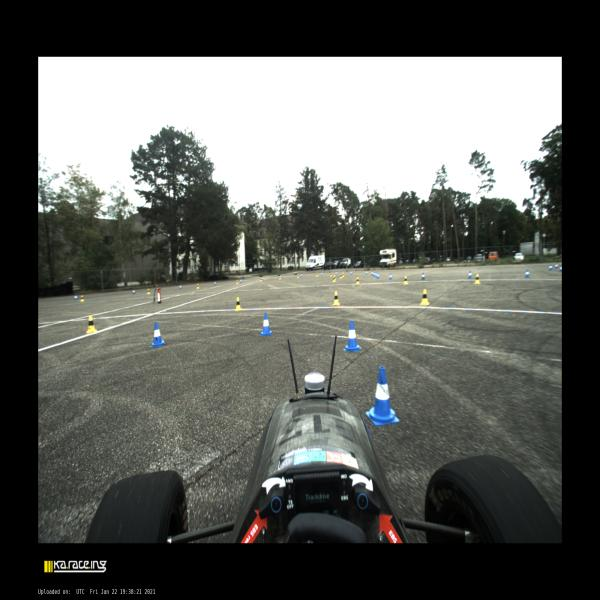blue_cone: (365, 367, 400, 426), (343, 321, 362, 352), (150, 322, 166, 347), (261, 313, 272, 335), (525, 270, 530, 278), (421, 273, 426, 280), (468, 270, 472, 278), (548, 264, 553, 270), (389, 273, 393, 280), (74, 294, 78, 300), (555, 262, 559, 268), (559, 265, 562, 272), (179, 284, 182, 290), (373, 272, 376, 276), (375, 272, 377, 278), (377, 273, 379, 279), (133, 289, 135, 294), (372, 271, 374, 276), (214, 281, 216, 285), (240, 279, 242, 283), (321, 272, 323, 276), (350, 271, 352, 275), (366, 271, 368, 275), (262, 277, 264, 280), (335, 272, 337, 275), (301, 274, 302, 277)
yellow_cone: (86, 316, 97, 333), (420, 289, 430, 305), (333, 291, 340, 306), (235, 297, 242, 311), (474, 274, 481, 284), (355, 277, 360, 284), (80, 294, 85, 301), (404, 276, 408, 284), (147, 288, 151, 294), (196, 284, 200, 290), (236, 279, 239, 285), (333, 276, 336, 282), (260, 277, 263, 282), (342, 272, 345, 277), (316, 273, 319, 277), (330, 272, 332, 278), (334, 275, 336, 280), (340, 274, 342, 279), (279, 276, 281, 280), (297, 274, 299, 278)
